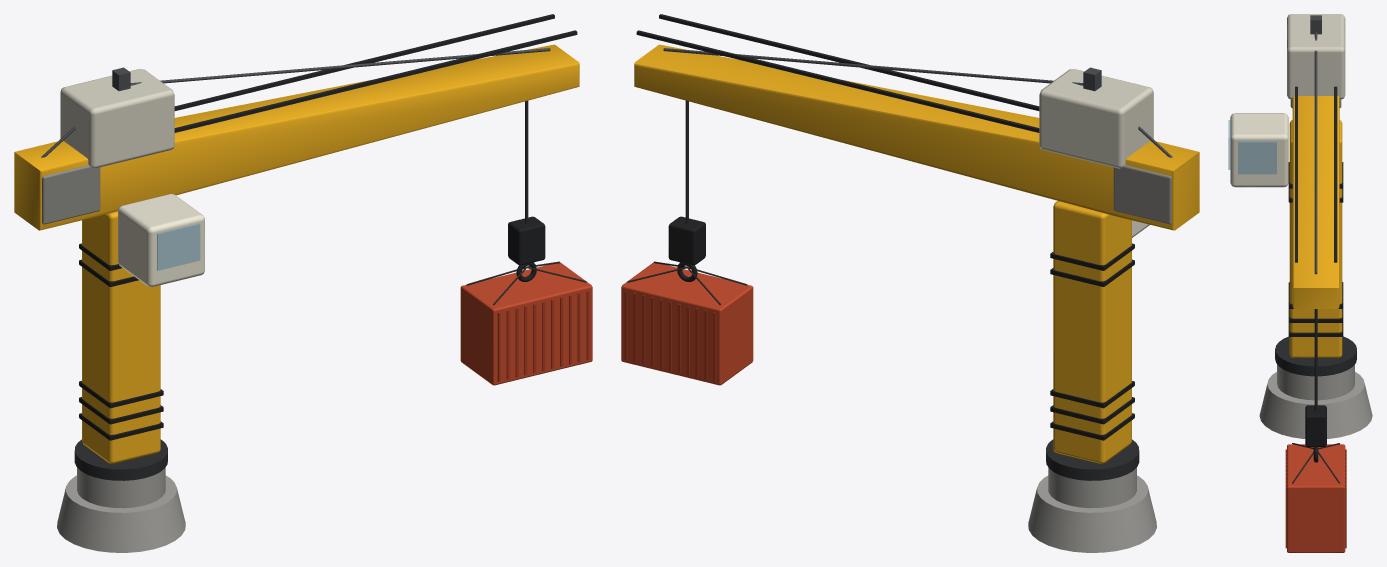
The model's file is original.glb.
The picture shows the model from 3 angles, left to right: view 1: azimuth 30°, elevation 25°; view 2: azimuth 150°, elevation 25°; view 3: azimuth 270°, elevation 25°; orthographic projection. The views are drawn at different scales.
Visible parts, largest first — view 1: Jib, Mast, Container, Machinery house, Pedestal, Operator cab, Jib rail, Container ribs, Counterweight, Slewing ring, Hazard bands, Pendant ties (+2 smaller); view 2: Jib, Mast, Container, Machinery house, Pedestal, Jib rail, Container ribs, Counterweight, Hazard bands, Slewing ring, Pendant ties, Hook block; view 3: Jib, Container, Pedestal, Machinery house, Operator cab, Mast, Slewing ring, Cab glass, Jib rail, Pendant ties, Hook block, Hazard bands (+3 smaller).
Part boxes in pixels (x1,y1,x2,y2): Jib: (14, 44, 579, 230); Mast: (82, 211, 160, 463); Container: (460, 262, 592, 385); Machinery house: (60, 69, 174, 168); Pedestal: (57, 467, 185, 552); Operator cab: (118, 194, 204, 286); Jib rail: (174, 14, 577, 132); Container ribs: (497, 290, 589, 381); Counterweight: (42, 165, 100, 224); Slewing ring: (74, 439, 167, 480); Hazard bands: (79, 243, 163, 440); Pendant ties: (41, 48, 550, 157); Jib: (634, 44, 1199, 230); Mast: (1053, 201, 1131, 463); Container: (621, 262, 753, 385); Machinery house: (1039, 69, 1153, 168); Pedestal: (1028, 467, 1156, 552); Jib rail: (636, 14, 1039, 132); Container ribs: (624, 290, 716, 381); Counterweight: (1113, 165, 1171, 224); Hazard bands: (1050, 243, 1134, 440); Slewing ring: (1046, 439, 1139, 480); Pendant ties: (663, 48, 1172, 157); Hook block: (668, 216, 705, 281); Jib: (1292, 96, 1339, 308); Container: (1287, 444, 1345, 552); Pedestal: (1259, 364, 1372, 438); Machinery house: (1287, 14, 1345, 99); Operator cab: (1230, 113, 1288, 187); Mast: (1289, 120, 1342, 357); Slewing ring: (1275, 336, 1356, 376); Cab glass: (1228, 120, 1276, 174); Jib rail: (1295, 86, 1337, 262); Pendant ties: (1310, 15, 1321, 274); Hook block: (1305, 405, 1326, 462); Hazard bands: (1288, 162, 1343, 336).
Size of the model in its own units: 14.25 by 11.25 by 3.7.
